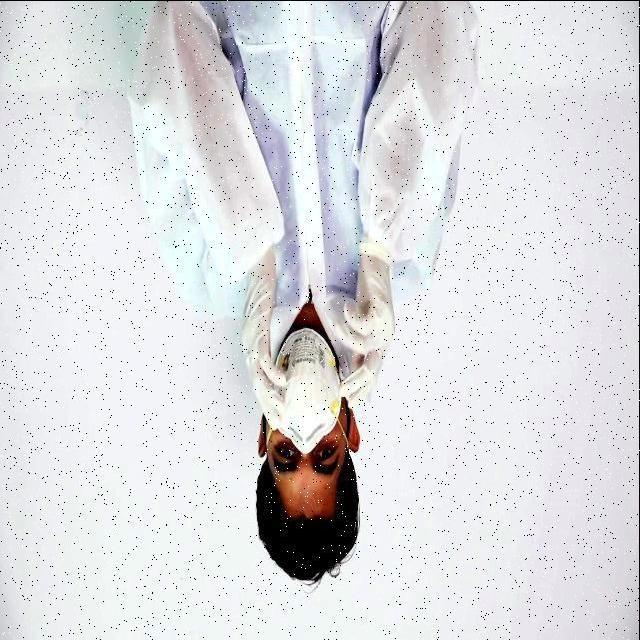apron: (336, 251, 396, 401), (233, 276, 280, 442)
